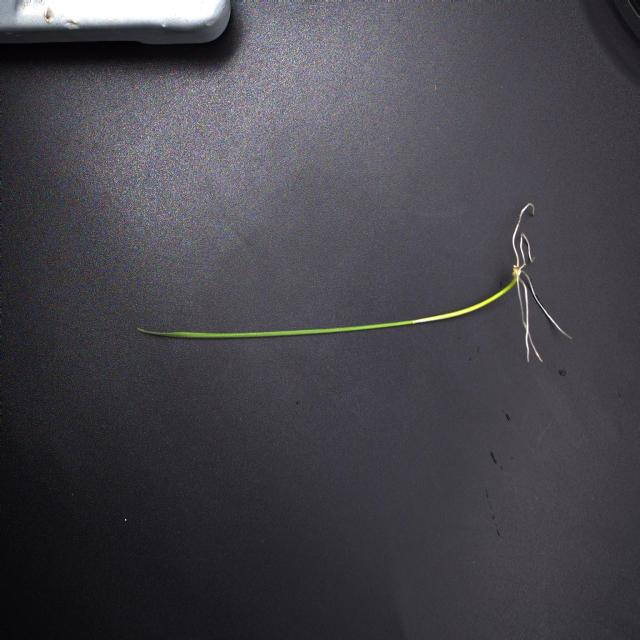leaf: (134, 318, 414, 342)
root: (510, 201, 574, 364)
steb: (413, 266, 518, 324)
